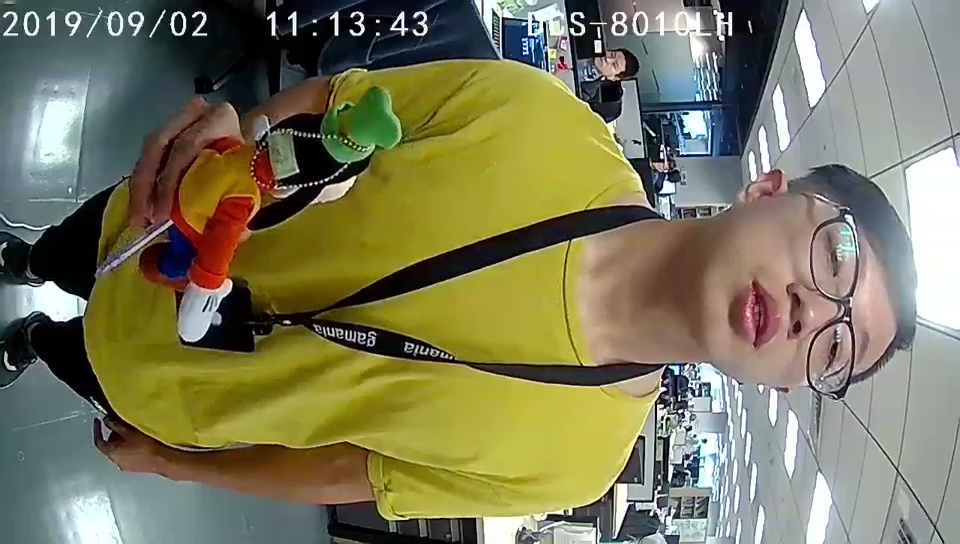goofy: (176, 87, 405, 339)
